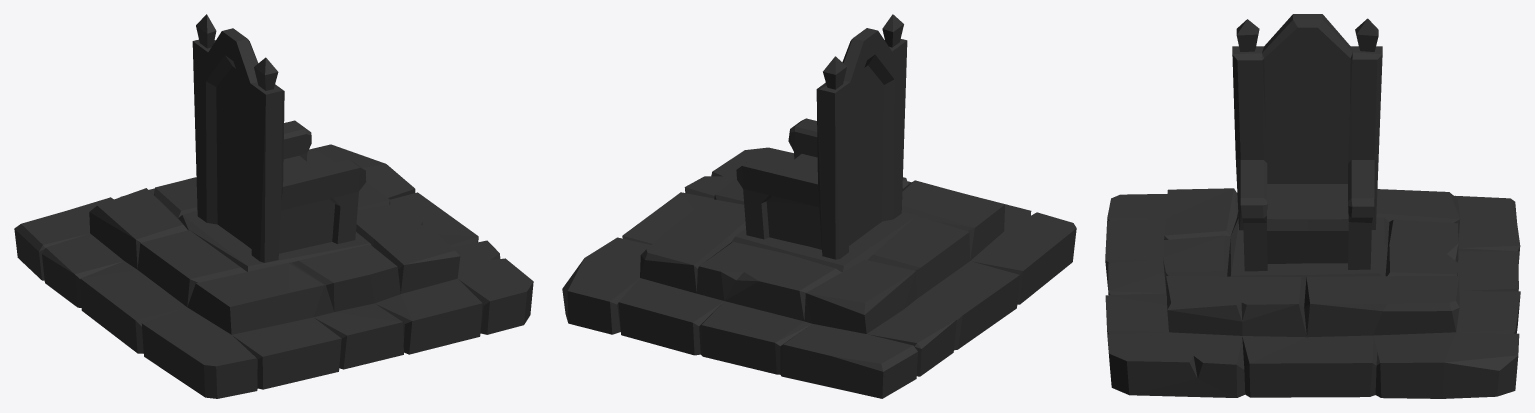
Rendered from Throne_01.FBX.
The picture shows the model from 3 angles, left to right: view 1: azimuth 30°, elevation 25°; view 2: azimuth 150°, elevation 25°; view 3: azimuth 270°, elevation 25°; orthographic projection. The views are drawn at different scales.
Visible parts, largest first — view 1: Throne_01; view 2: Throne_01; view 3: Throne_01.
Boxes of the visible parts, x1=… form: Throne_01: x1=14, y1=14, x2=533, y2=398; Throne_01: x1=562, y1=14, x2=1076, y2=398; Throne_01: x1=1105, y1=14, x2=1520, y2=398.
Bounding box in the file's own units: 77.06 × 56.91 × 78.19.
